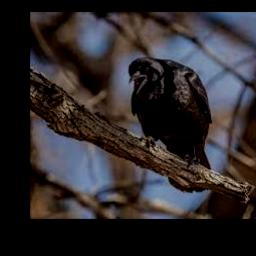Crow: (127, 57, 213, 193)
